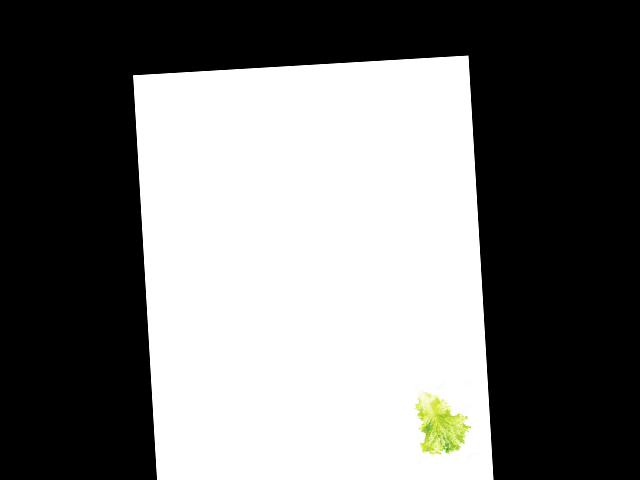lettuce: (416, 387, 471, 456)
